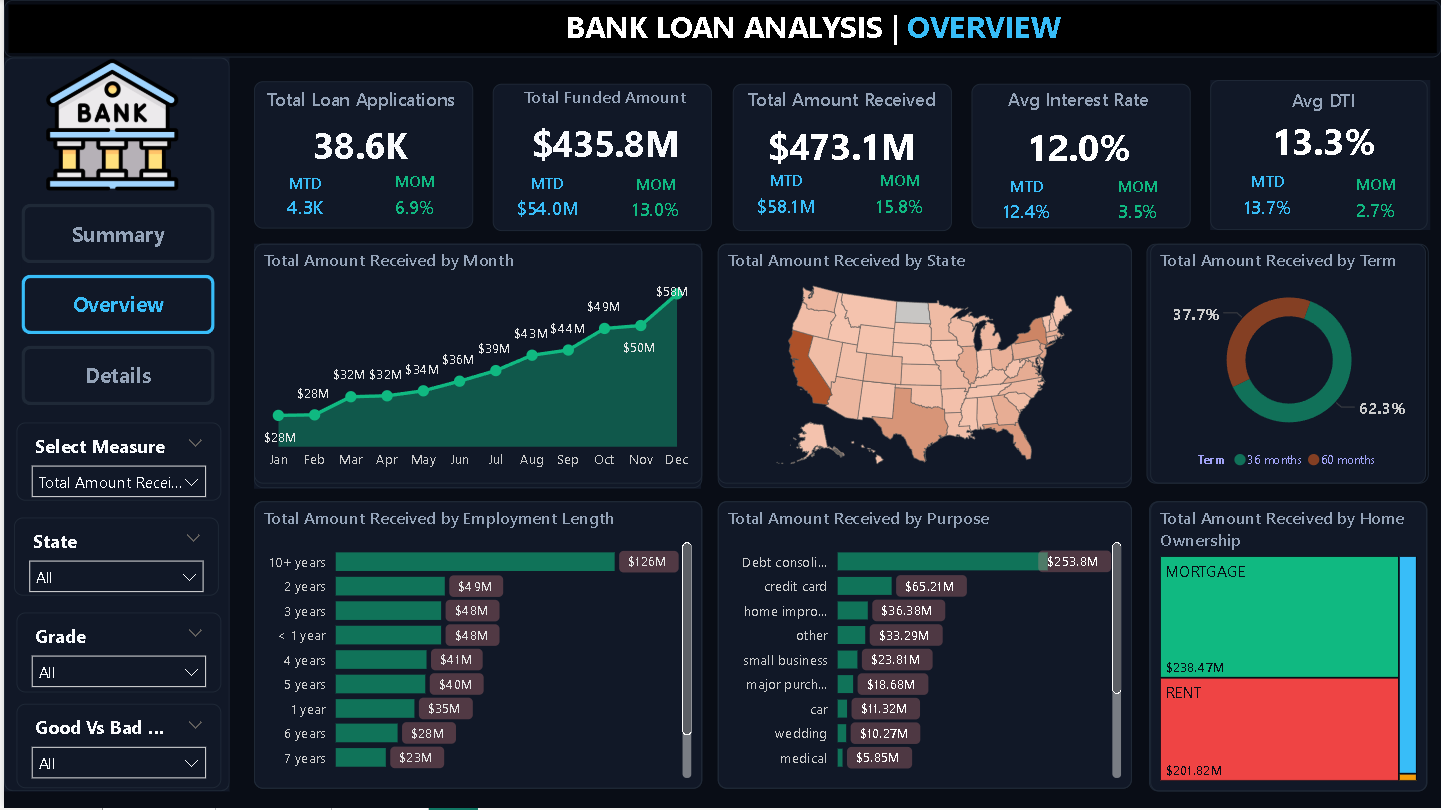

This screenshot's page, from the dashboard's own definition file:
{"tool":"powerbi","page":{"name":"Overview","canvas":[1280,720],"ordinal":1},"visuals":[{"type":"shape","box":[0,51.2,201.2,653.5],"z":0},{"type":"shape","box":[1074.4,70.9,193.6,133.5],"z":0,"group":"g3"},{"type":"shape","box":[861.6,74.4,195,129.2],"z":0,"group":"g2"},{"type":"shape","box":[222.1,217.4,399.4,217.8],"z":0,"group":"g1"},{"type":"card","fields":{"Values":["bank_loan_data.AVG DTI"]},"box":[1081.5,97.8,188.4,56.8],"z":1000,"group":"g3"},{"type":"card","fields":{"Values":["bank_loan_data.Avg Int Rate"]},"box":[863.6,100.4,186.7,63.4],"z":1000,"group":"g2"},{"type":"group","id":"g1","title":"Group 2","box":[222.1,217.4,398.8,217.4],"z":1000},{"type":"shape","box":[222.1,446.5,398.8,255.8],"z":2000},{"type":"card","title":"MTD","fields":{"Values":["bank_loan_data.MTD Avg DTI"]},"box":[1091.7,151.9,67,50.7],"z":3000,"group":"g3"},{"type":"card","title":"MTD","fields":{"Values":["bank_loan_data.MTD Avg Interst Rate"]},"box":[879.1,156.5,63.4,48.8],"z":3000,"group":"g2"},{"type":"shape","box":[1017.4,217.4,248.8,214],"z":3000},{"type":"card","title":"MOM","fields":{"Values":["bank_loan_data.MOM Avg DTI"]},"box":[1189.1,154.2,66,50.7],"z":4000,"group":"g3"},{"type":"card","title":"MOM","fields":{"Values":["bank_loan_data.MOM Avg Int Rate"]},"box":[981.3,156.5,58.7,48.8],"z":4000,"group":"g2"},{"type":"shape","box":[636,217.4,368.6,217.4],"z":4000},{"type":"shape","box":[0,0,1280.2,51.2],"z":5000},{"type":"textbox","box":[348.4,0,744.7,54.5],"z":6000},{"type":"areaChart","fields":{"Y":["bank_loan_data.Total Amount Received"],"Category":["Date Table.Month"]},"box":[222.1,217.4,398.8,214],"z":7000},{"type":"shape","box":[222.1,72.1,195.3,131],"z":8000},{"type":"card","title":"MOM","fields":{"Values":["bank_loan_data.MoM Applications"]},"box":[336,152.3,59.3,50],"z":9000},{"type":"shapeMap","fields":{"Value":["bank_loan_data.Total Amount Received"],"Category":["bank_loan_data.address_state"]},"box":[636,217.4,368.6,214],"z":10000},{"type":"donutChart","fields":{"Y":["bank_loan_data.Total Amount Received"],"Category":["bank_loan_data.term"]},"box":[1020.9,217.4,247.7,214],"z":11000},{"type":"card","fields":{"Values":["bank_loan_data.Total Loan Applications"]},"box":[222.1,100,190.7,59.3],"z":12000},{"type":"barChart","fields":{"Y":["bank_loan_data.Total Amount Received"],"Category":["bank_loan_data.emp_length"]},"box":[222.1,446.5,398.8,255.8],"z":13000},{"type":"shape","box":[636,446.5,368.6,255.8],"z":14000},{"type":"barChart","fields":{"Y":["bank_loan_data.Total Amount Received"],"Category":["bank_loan_data.purpose"]},"box":[636,446.5,368.6,255.8],"z":15000},{"type":"shape","box":[1019.8,446.5,247.7,258.1],"z":16000},{"type":"treemap","fields":{"Values":["bank_loan_data.Total Amount Received"],"Group":["bank_loan_data.home_ownership"]},"box":[1020.9,446.5,246.5,258.1],"z":17000},{"type":"pageNavigator","box":[15.1,181.4,172.1,181.4],"z":18000},{"type":"shape","box":[435.3,74.4,195.3,131],"z":19000},{"type":"shape","box":[648.4,74.4,195.3,131],"z":20000},{"type":"group","id":"g2","title":"Group 1","box":[861.6,74.4,195,131.4],"z":21000},{"type":"group","id":"g3","title":"Group 1","box":[1074.4,70.9,195.3,133.7],"z":22000},{"type":"card","fields":{"Values":["bank_loan_data.Total Amount Received"]},"box":[647.7,97.7,196.5,65.1],"z":23000},{"type":"card","title":"MTD","fields":{"Values":["bank_loan_data.MTD Loan Applications"]},"box":[237.2,153.5,62.8,46.5],"z":24000},{"type":"card","fields":{"Values":["bank_loan_data.Total Funded Amount"]},"box":[438.4,96.5,194.2,61.6],"z":25000},{"type":"card","title":"MTD","fields":{"Values":["bank_loan_data.MTD Total Amount Recieved"]},"box":[662.8,151.2,68.6,51.2],"z":26000},{"type":"card","title":"MOM","fields":{"Values":["bank_loan_data.MOM Total Amount Recieved"]},"box":[764,151.2,68.6,51.2],"z":27000},{"type":"card","title":"MTD","fields":{"Values":["bank_loan_data.MTD Funded Amount"]},"box":[451.2,153.5,66.3,50],"z":28000},{"type":"card","title":"MOM","fields":{"Values":["bank_loan_data.MoM Total Funded Amount"]},"box":[552.3,154.7,57,50],"z":29000},{"type":"image","box":[25.6,52.3,141.9,117.4],"z":30000},{"type":"slicer","fields":{"Values":["bank_loan_data.address_state"]},"box":[9.3,460.5,182.6,69.8],"z":31000},{"type":"slicer","fields":{"Values":["bank_loan_data.grade"]},"box":[11.6,545.4,182.6,70.9],"z":32000},{"type":"slicer","fields":{"Values":["bank_loan_data.Good Vs Bad Loan"]},"box":[11.6,626.7,182.6,75.6],"z":33000},{"type":"slicer","fields":{"Values":["Select Measure.Select Measure"]},"box":[11.6,376.7,182.6,69.8],"z":34000},{"type":"textbox","box":[222.1,70.9,190.7,40.7],"z":35000},{"type":"textbox","box":[437.2,70.9,195.3,40.7],"z":36000},{"type":"textbox","box":[647.7,70.9,196.5,40.7],"z":37000},{"type":"textbox","box":[860.5,70.9,193,43],"z":38000},{"type":"textbox","box":[1079.1,72.1,193,39.5],"z":39000}]}

Visuals, with their boxes in screenshot pixels (x1, y1, x2, y2), scaled from the page's 1280x720 canvas onto the 1441x810 screenshot:
shape: l=0, t=58, r=227, b=793
shape: l=1210, t=80, r=1427, b=230
shape: l=970, t=84, r=1190, b=229
shape: l=250, t=245, r=700, b=490
card - bank_loan_data.AVG DTI: l=1218, t=110, r=1430, b=174
card - bank_loan_data.Avg Int Rate: l=972, t=113, r=1182, b=184
"Group 2" group: l=250, t=245, r=699, b=489
shape: l=250, t=502, r=699, b=790
"MTD" card: l=1229, t=171, r=1304, b=228
"MTD" card: l=990, t=176, r=1061, b=231
shape: l=1145, t=245, r=1425, b=485
"MOM" card: l=1339, t=173, r=1413, b=231
"MOM" card: l=1105, t=176, r=1171, b=231
shape: l=716, t=245, r=1131, b=489
shape: l=0, t=0, r=1440, b=58
textbox: l=392, t=0, r=1231, b=61
areaChart - bank_loan_data.Total Amount Received x Date Table.Month: l=250, t=245, r=699, b=485
shape: l=250, t=81, r=470, b=228
"MOM" card: l=378, t=171, r=445, b=228
shapeMap - bank_loan_data.Total Amount Received x bank_loan_data.address_state: l=716, t=245, r=1131, b=485
donutChart - bank_loan_data.Total Amount Received x bank_loan_data.term: l=1149, t=245, r=1428, b=485
card - bank_loan_data.Total Loan Applications: l=250, t=112, r=465, b=179
barChart - bank_loan_data.Total Amount Received x bank_loan_data.emp_length: l=250, t=502, r=699, b=790
shape: l=716, t=502, r=1131, b=790
barChart - bank_loan_data.Total Amount Received x bank_loan_data.purpose: l=716, t=502, r=1131, b=790
shape: l=1148, t=502, r=1427, b=793
treemap - bank_loan_data.Total Amount Received x bank_loan_data.home_ownership: l=1149, t=502, r=1427, b=793
pageNavigator: l=17, t=204, r=211, b=408
shape: l=490, t=84, r=710, b=231
shape: l=730, t=84, r=950, b=231
"Group 1" group: l=970, t=84, r=1190, b=232
"Group 1" group: l=1210, t=80, r=1429, b=230
card - bank_loan_data.Total Amount Received: l=729, t=110, r=950, b=183
"MTD" card: l=267, t=173, r=338, b=225
card - bank_loan_data.Total Funded Amount: l=494, t=109, r=712, b=178
"MTD" card: l=746, t=170, r=823, b=228
"MOM" card: l=860, t=170, r=937, b=228
"MTD" card: l=508, t=173, r=583, b=229
"MOM" card: l=622, t=174, r=686, b=230
image: l=29, t=59, r=189, b=191
slicer - bank_loan_data.address_state: l=10, t=518, r=216, b=597
slicer - bank_loan_data.grade: l=13, t=614, r=219, b=693
slicer - bank_loan_data.Good Vs Bad Loan: l=13, t=705, r=219, b=790
slicer - Select Measure.Select Measure: l=13, t=424, r=219, b=502
textbox: l=250, t=80, r=465, b=126
textbox: l=492, t=80, r=712, b=126
textbox: l=729, t=80, r=950, b=126
textbox: l=969, t=80, r=1186, b=128
textbox: l=1215, t=81, r=1432, b=126
